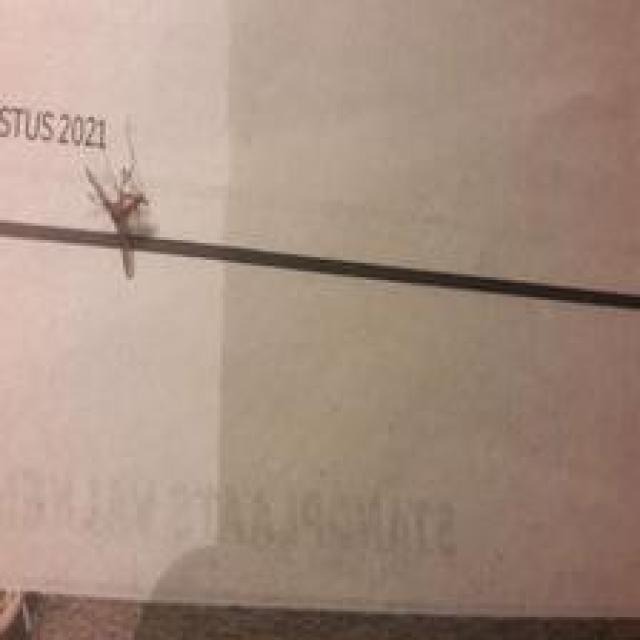Culex: (83, 114, 154, 280)
